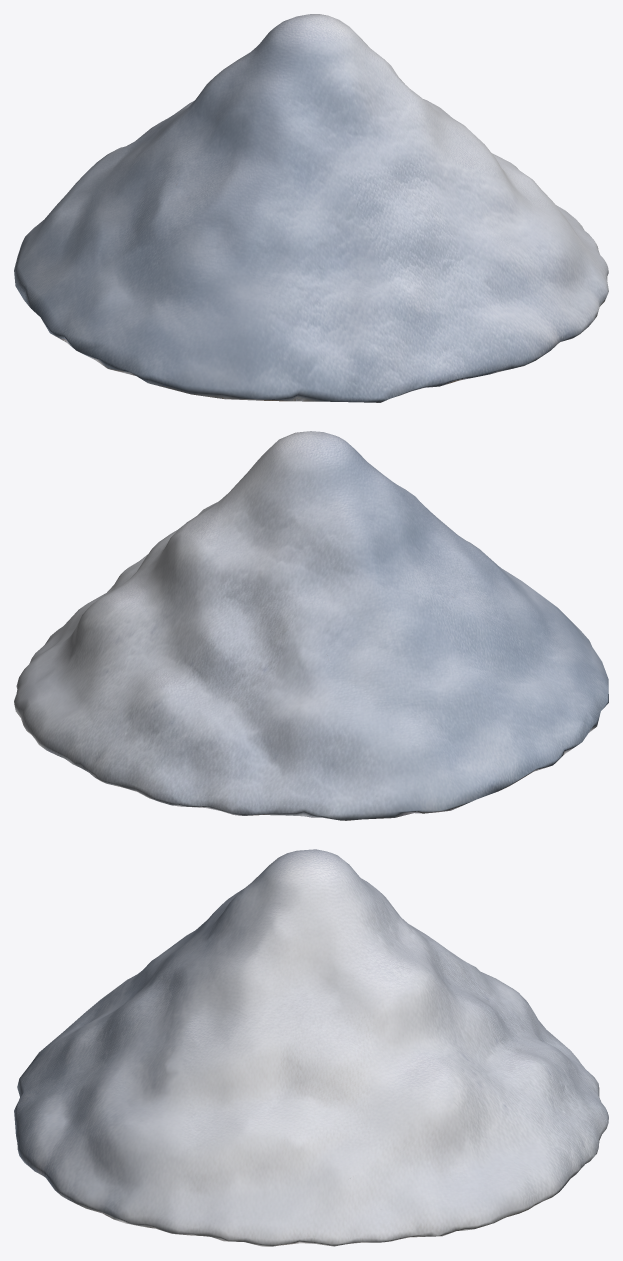
Rendered from PR_SnowSoft_Cone.fbx.
3 views of the same model, one above another, from view 1: azimuth 30°, elevation 25°; view 2: azimuth 150°, elevation 25°; view 3: azimuth 270°, elevation 25° (orthographic). The views are drawn at different scales.
Parts seen in each view (by area): view 1: texture_mapping; view 2: texture_mapping; view 3: texture_mapping.
Part boxes in pixels (x1=…): texture_mapping: x1=14, y1=14, x2=608, y2=402; texture_mapping: x1=14, y1=431, x2=608, y2=820; texture_mapping: x1=14, y1=849, x2=608, y2=1246.
Size of the model in its own units: 1 by 0.9994 by 0.4986.
1 material, 1 textured.
